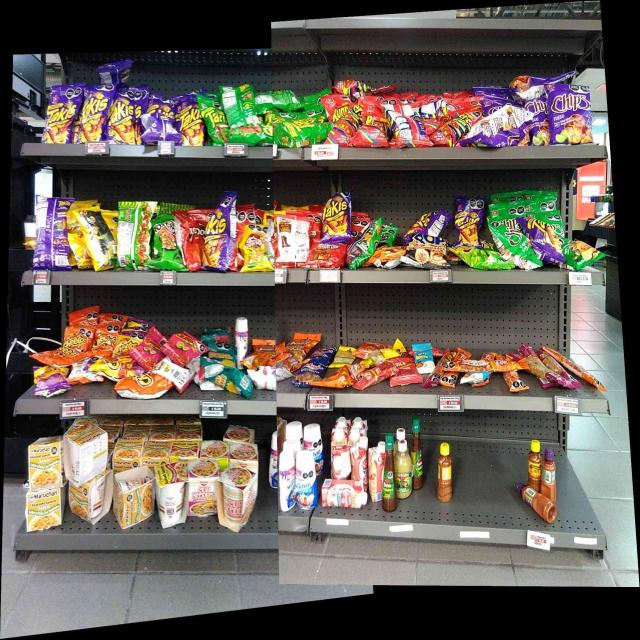bitzAlmendras: (413, 342, 435, 372), (462, 372, 490, 384)
bitzEnchilado90: (361, 365, 388, 387), (392, 356, 412, 385)
bitzEnchilado95: (442, 359, 528, 370), (504, 372, 527, 392), (562, 356, 584, 370), (441, 372, 459, 386)
bitzHabanero: (529, 346, 559, 386)
bokadosCacahuates: (301, 362, 325, 381)
botaneraChilito: (436, 442, 453, 502), (527, 438, 539, 492)
cheetosFlaminHot: (39, 368, 66, 392), (117, 331, 140, 359), (91, 361, 123, 379)
cheetosOriginal: (124, 376, 167, 398), (90, 332, 116, 354), (48, 349, 80, 364), (65, 329, 89, 348)
chipsFuego: (553, 85, 591, 142), (526, 101, 550, 144)
chipsJalapeno: (496, 217, 522, 252)
churrumais: (168, 336, 195, 362), (141, 340, 160, 367)
delPrimoSalsa: (398, 440, 412, 498)
doritosNacho: (182, 214, 202, 266)
fritosLimon: (245, 227, 266, 268)
leoMix: (287, 340, 311, 356)
maruchanPollo: (114, 473, 154, 527), (70, 478, 109, 522), (30, 438, 63, 486), (26, 491, 63, 527)
maruchanRes: (156, 460, 188, 519), (424, 371, 441, 387)
nestleCarnation: (322, 481, 364, 507), (369, 442, 381, 502), (351, 436, 368, 478)
nestleLechera: (298, 451, 316, 510), (279, 450, 297, 507), (236, 317, 248, 367)
nissinRes: (222, 467, 255, 521), (190, 460, 218, 518)
popKarameladas: (409, 234, 445, 268)
productoAtras: (36, 202, 68, 266), (121, 203, 148, 266), (86, 210, 114, 263), (277, 220, 312, 262), (388, 101, 422, 143), (229, 86, 254, 138), (478, 111, 526, 137)
rancheritos: (314, 244, 343, 267)
runners: (438, 112, 470, 141), (364, 105, 387, 144), (326, 95, 348, 118), (349, 105, 362, 139)
salsaBufalo: (383, 433, 397, 511), (412, 416, 424, 489)
semillasCalabaza: (336, 346, 352, 364)
semillasGirasol: (213, 371, 250, 394), (210, 347, 235, 367)
tajinDulce: (542, 448, 558, 500)
takisFuego: (80, 90, 108, 140), (46, 96, 76, 142), (206, 210, 228, 269), (530, 218, 557, 260), (109, 98, 134, 143), (323, 199, 349, 237), (179, 104, 201, 144), (457, 205, 479, 242), (412, 212, 437, 233)
takisOriginal: (203, 101, 227, 138)
tostitos: (154, 220, 177, 267)
